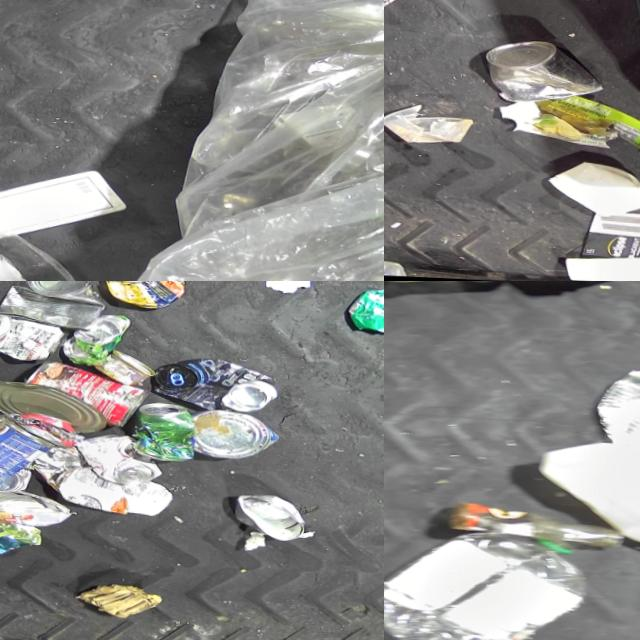can: (17, 359, 146, 430), (479, 39, 602, 107), (147, 356, 276, 416), (0, 380, 102, 434), (0, 281, 104, 333), (68, 431, 160, 487), (596, 367, 640, 483), (187, 409, 277, 463), (125, 400, 194, 462), (0, 408, 53, 488), (228, 493, 306, 544), (56, 312, 129, 366), (0, 306, 62, 363), (0, 488, 68, 528), (97, 281, 185, 311), (88, 348, 152, 388), (342, 288, 384, 337), (0, 466, 27, 494)
milk_jug: (519, 438, 640, 563), (0, 163, 126, 249)
plastic_bottle: (384, 527, 594, 640)
